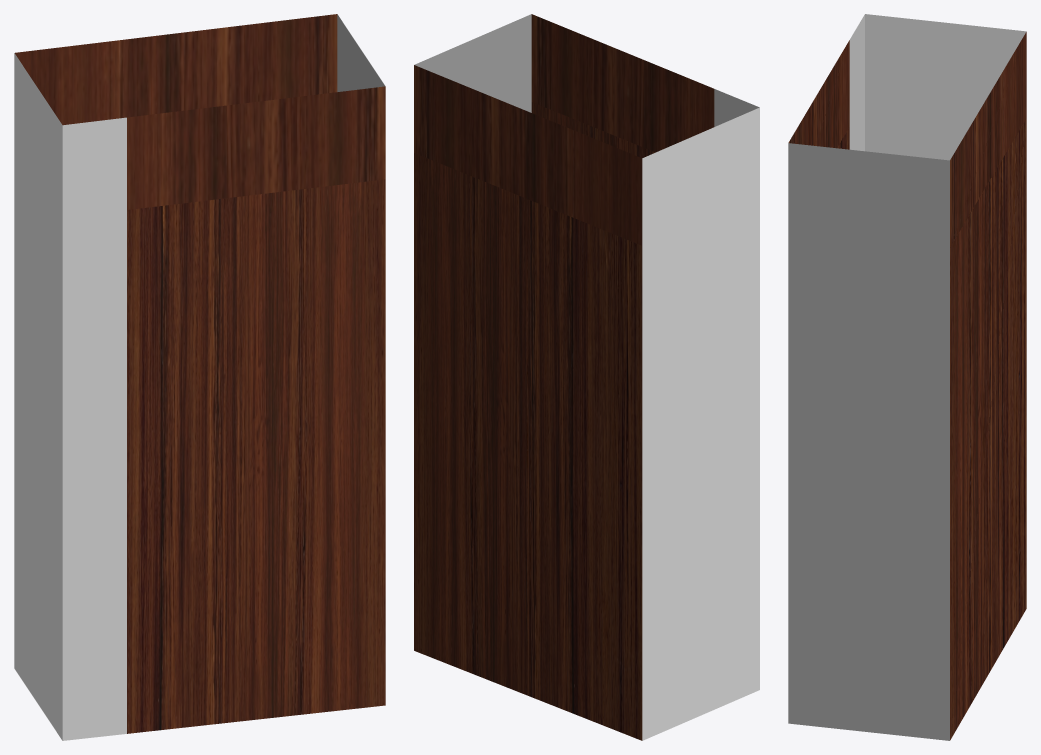
The model's file is columna1.glb.
3 views of the same model, side by side, from view 1: azimuth 30°, elevation 25°; view 2: azimuth 150°, elevation 25°; view 3: azimuth 270°, elevation 25° (orthographic). The views are drawn at different scales.
Parts seen in each view (by area): view 1: columna; view 2: columna; view 3: columna.
Part boxes in pixels (x1=…): columna: x1=14, y1=14, x2=385, y2=740; columna: x1=414, y1=14, x2=759, y2=740; columna: x1=788, y1=14, x2=1026, y2=740.
Bounding box in the file's own units: 8.74 × 16.15 × 6.01.
Materials: 3 (1 with a texture image).
